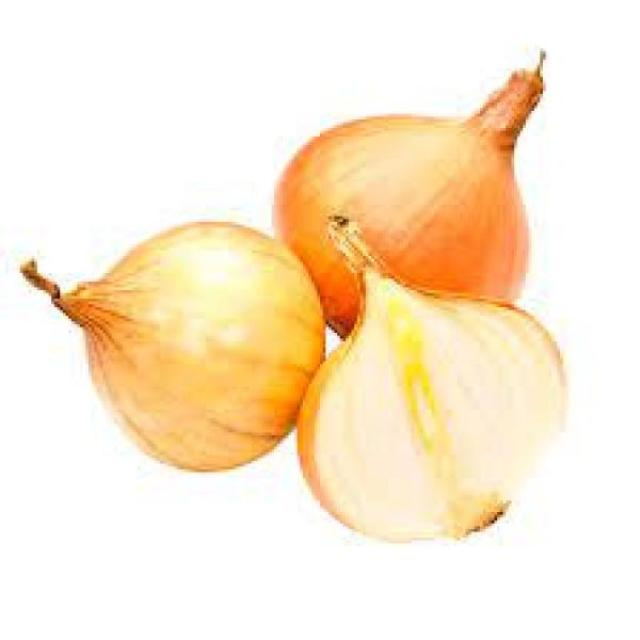Onion: (295, 144, 566, 546), (23, 221, 326, 475), (274, 66, 547, 339)
